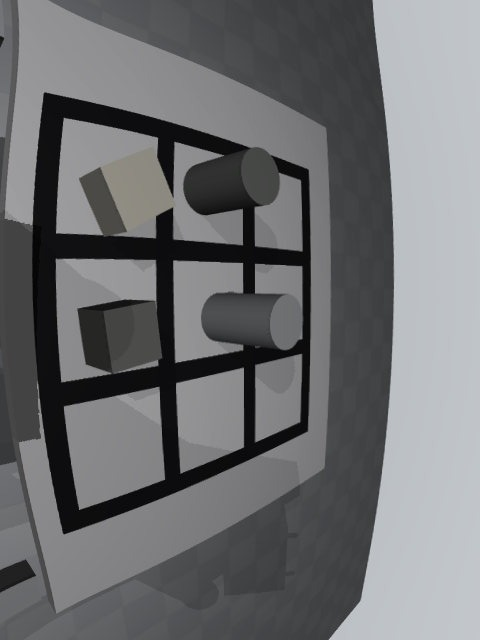can: (201, 293, 303, 350)
cube: (77, 300, 162, 373)
cylinder: (183, 147, 280, 215)
foam: (79, 147, 176, 237)
